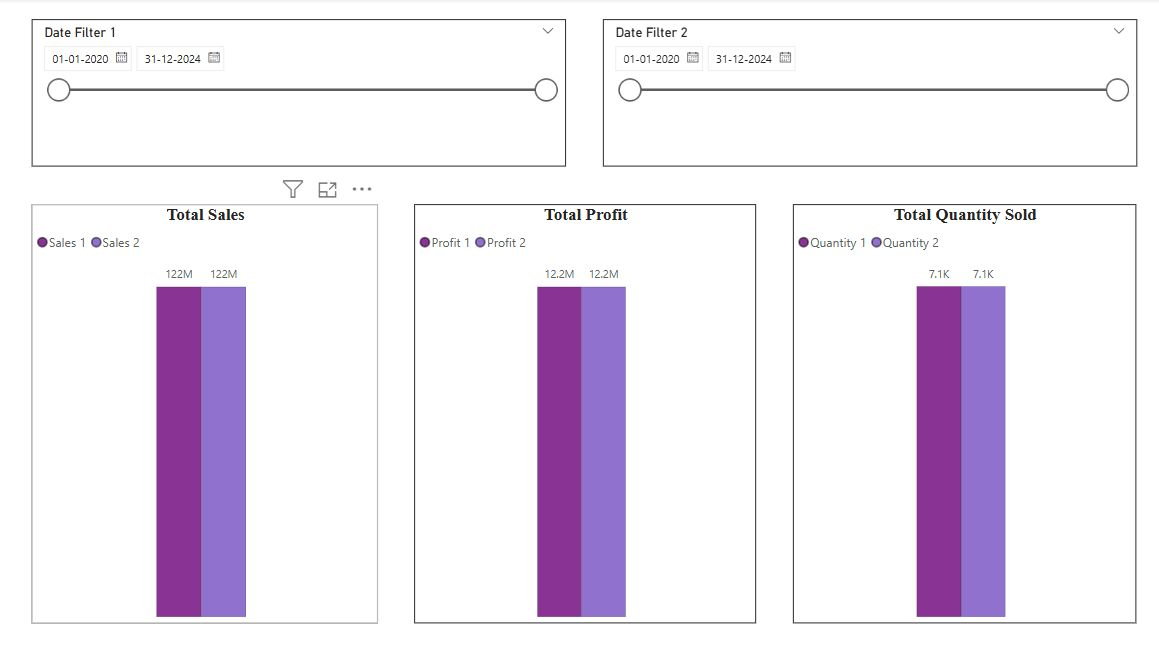

The page's visual inventory and layout, read from the dashboard file:
{"tool":"powerbi","page":{"name":"Comparison Sales/Profit/Quantity","canvas":[1280,720],"ordinal":2},"visuals":[{"type":"slicer","fields":{"Values":["Date Table 1.Date"]},"box":[37.5,23.8,586.2,161.2],"z":0},{"type":"slicer","fields":{"Values":["Date Table 2.Date"]},"box":[663.8,23.8,586.2,161.2],"z":1000},{"type":"clusteredColumnChart","title":"Total Sales","fields":{"Y":["Sum(Fact Table.Net Sales)","Date Table 1.Sum of Net Sales"]},"box":[37.5,226.2,380,460],"z":2000},{"type":"clusteredColumnChart","title":"Total Profit","fields":{"Y":["Sum(Fact Table.Profit)","Measures Table.Total Profit"]},"box":[457.5,226.2,375,460],"z":3000},{"type":"clusteredColumnChart","title":"Total Quantity Sold","fields":{"Y":["Sum(Fact Table.Units Sold)","Measures Table.Quantity Sold"]},"box":[873.3,226.7,376.7,460],"z":4000}]}

Visuals, with their boxes in screenshot pixels (x1, y1, x2, y2), scaled from the page's 1280x720 canvas onto the 1159x645 screenshot:
slicer - Date Table 1.Date: bbox=[34, 21, 565, 166]
slicer - Date Table 2.Date: bbox=[601, 21, 1132, 166]
"Total Sales" clusteredColumnChart: bbox=[34, 203, 378, 615]
"Total Profit" clusteredColumnChart: bbox=[414, 203, 754, 615]
"Total Quantity Sold" clusteredColumnChart: bbox=[791, 203, 1132, 615]
